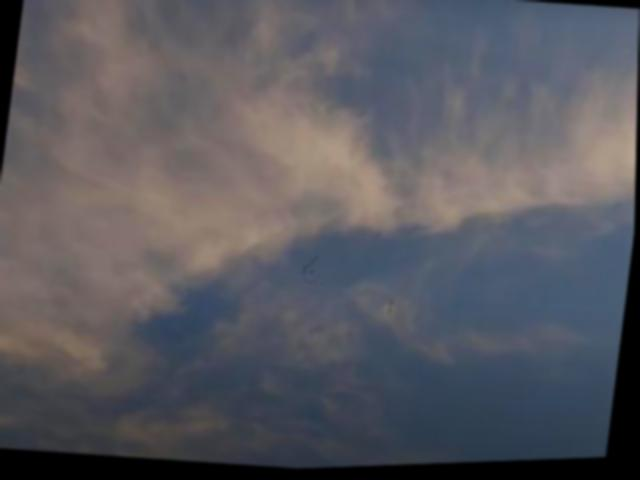iha: (387, 303, 397, 318)
